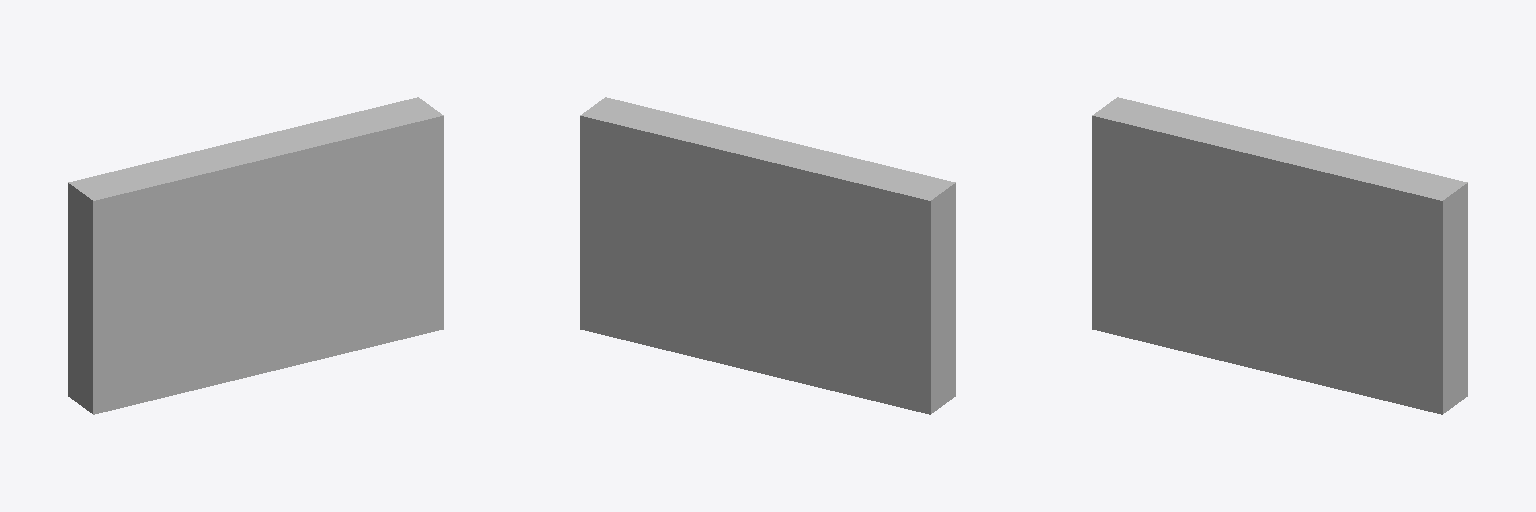
Rendered from blockwall.obj.
3 renders of one model, left to right at view 1: azimuth 30°, elevation 25°; view 2: azimuth 150°, elevation 25°; view 3: azimuth 330°, elevation 25°, orthographic.
Parts seen in each view (by area): view 1: frac; view 2: frac; view 3: frac.
Part boxes in pixels (left/top/right/bottom): frac: left=68, top=97, right=443, bottom=414; frac: left=580, top=97, right=955, bottom=414; frac: left=1092, top=97, right=1467, bottom=414.
Bounding box in the file's own units: 24 × 14 × 3.